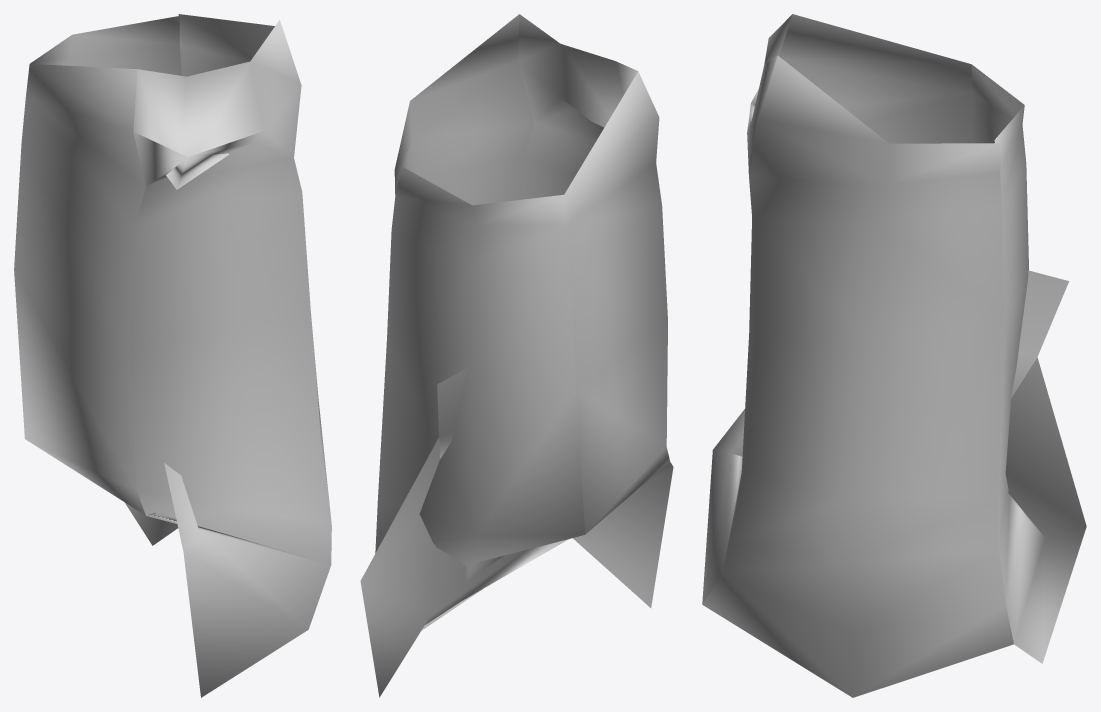
File: left_arm.glb
3 views of the same model, side by side, from view 1: azimuth 30°, elevation 25°; view 2: azimuth 150°, elevation 25°; view 3: azimuth 270°, elevation 25° (orthographic). The views are drawn at different scales.
Visible parts, largest first — view 1: sweater-white_LEFT_ARM; view 2: sweater-white_LEFT_ARM; view 3: sweater-white_LEFT_ARM.
Boxes of the visible parts, left/top/right/bottom form: sweater-white_LEFT_ARM: left=14, top=14, right=331, bottom=697; sweater-white_LEFT_ARM: left=360, top=14, right=673, bottom=697; sweater-white_LEFT_ARM: left=702, top=14, right=1086, bottom=697.
Size of the model in its own units: 0.1311 by 0.3242 by 0.184.
1 material, 1 textured.
